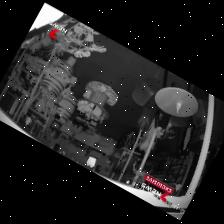person: (93, 134, 112, 146)
